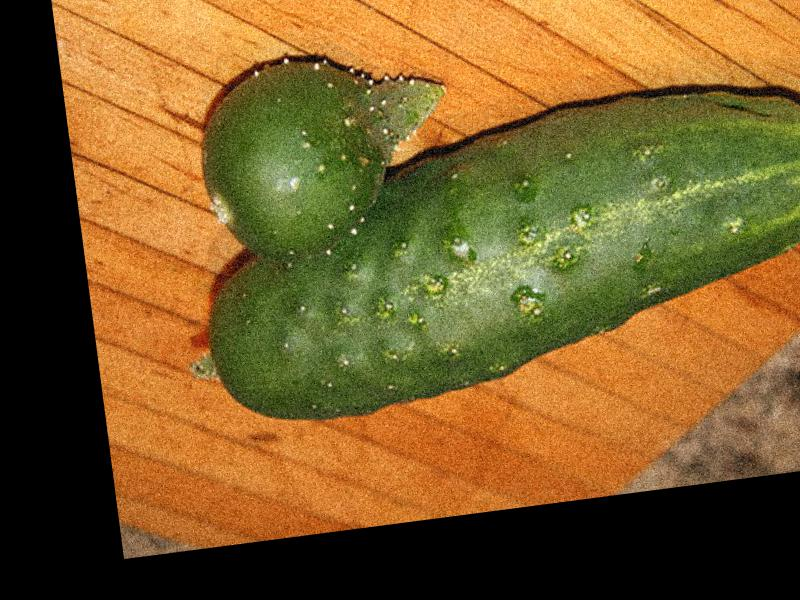Cucumber: (183, 67, 800, 433)
